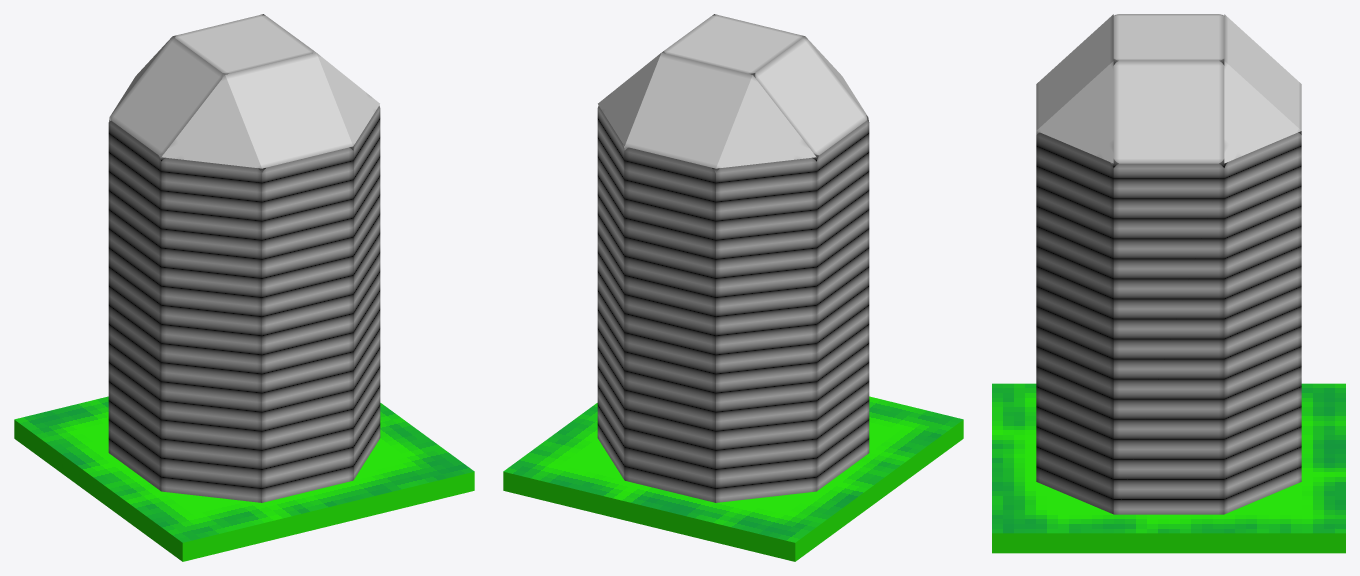
The model's file is filter.fbx.
3 views of the same model, side by side, from view 1: azimuth 30°, elevation 25°; view 2: azimuth 150°, elevation 25°; view 3: azimuth 270°, elevation 25° (orthographic). The views are drawn at different scales.
Parts seen in each view (by area): view 1: beveled_cuboid, cube; view 2: beveled_cuboid, cube; view 3: beveled_cuboid, cube.
Boxes of the visible parts, x1,y1,x2,y2 form: beveled_cuboid: (108,14,380,502); cube: (14,396,474,561); beveled_cuboid: (597,14,869,502); cube: (503,396,963,561); beveled_cuboid: (1036,14,1301,514); cube: (992,383,1345,553).
Size of the model in its own units: 500 by 781 by 500.
Materials: 2 (2 with a texture image).
